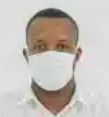with_facemask: (28, 53, 74, 89)
